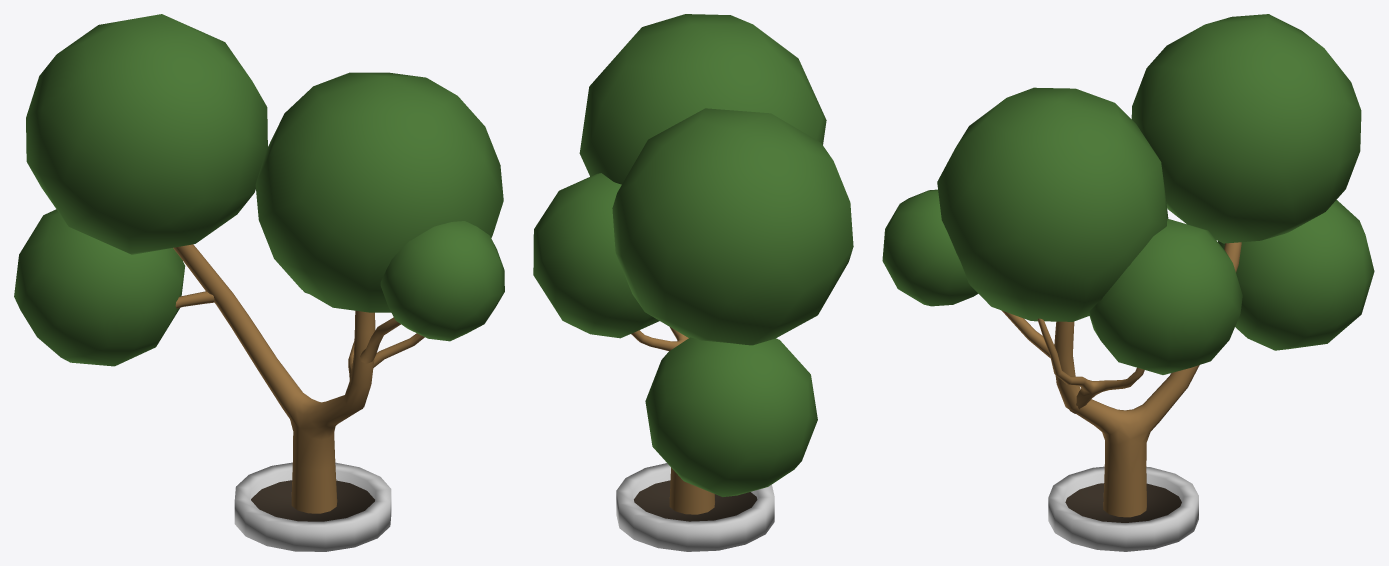
The model's file is SM_Prop_Tree.fbx.
3 renders of one model, left to right at view 1: azimuth 30°, elevation 25°; view 2: azimuth 150°, elevation 25°; view 3: azimuth 270°, elevation 25°, orthographic. The views are drawn at different scales.
Parts seen in each view (by area): view 1: SM_Prop_Tree; view 2: SM_Prop_Tree; view 3: SM_Prop_Tree.
Boxes of the visible parts, x1,y1,x2,y2 form: SM_Prop_Tree: (14,14,504,551); SM_Prop_Tree: (533,14,853,551); SM_Prop_Tree: (882,14,1374,551).
Bounding box in the file's own units: 6.5 × 8.5 × 8.49.
